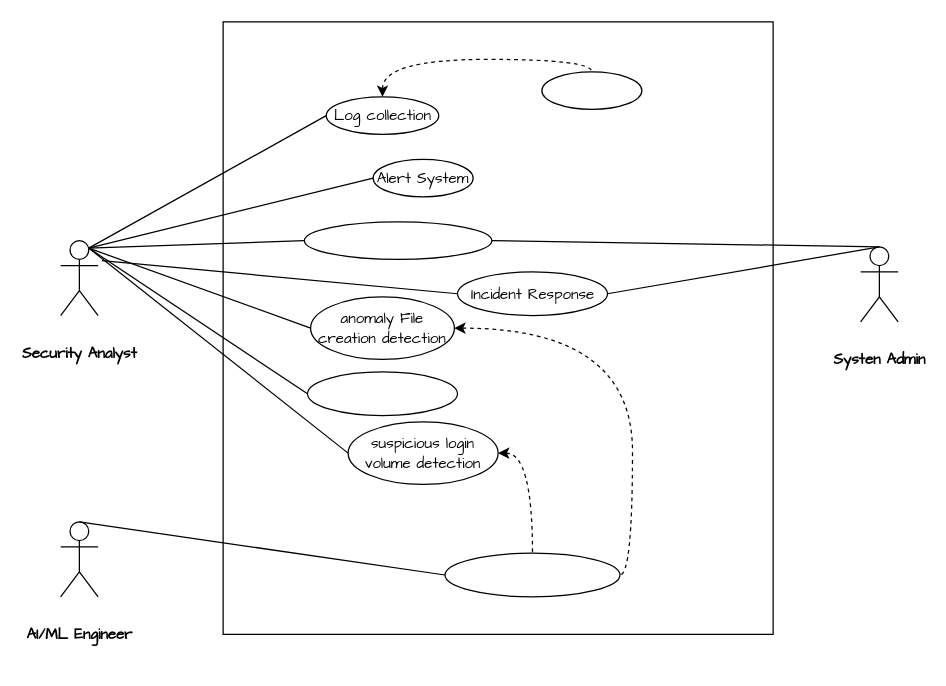
Image size: 946x686. Some labels were removed from this diagram. The centre of each missing label's shape, as x and y in pixels:
AI based detection: (x=532, y=574)
Alert Customization: (x=382, y=393)
Dashboard Visualization: (x=397, y=240)
Filter: (x=591, y=90)
